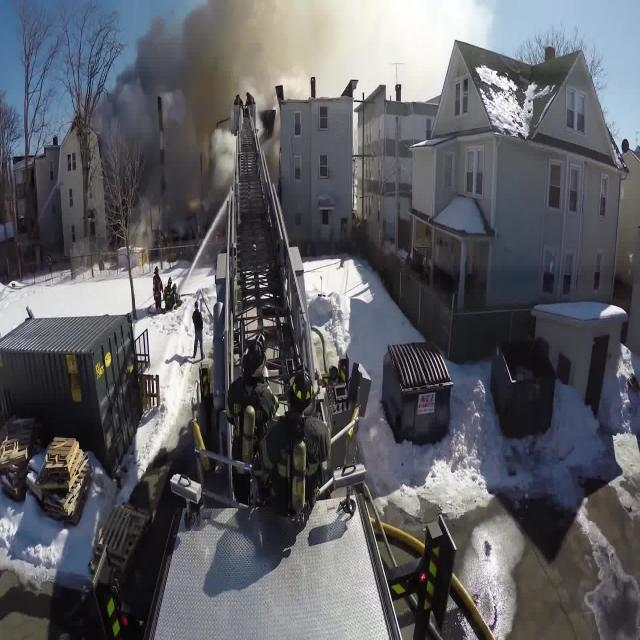Smoke: (82, 0, 330, 260)
